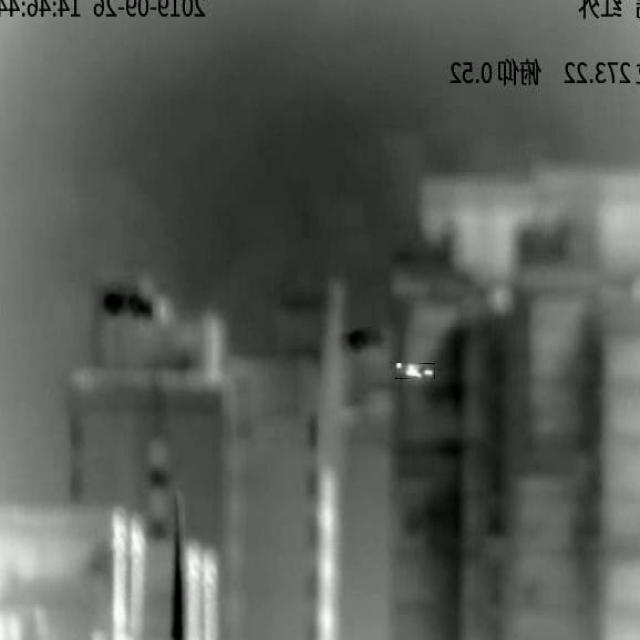drone: (395, 363, 434, 379)
